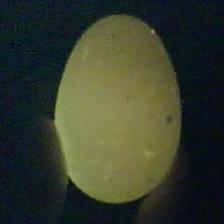infertile: (53, 14, 181, 204)
